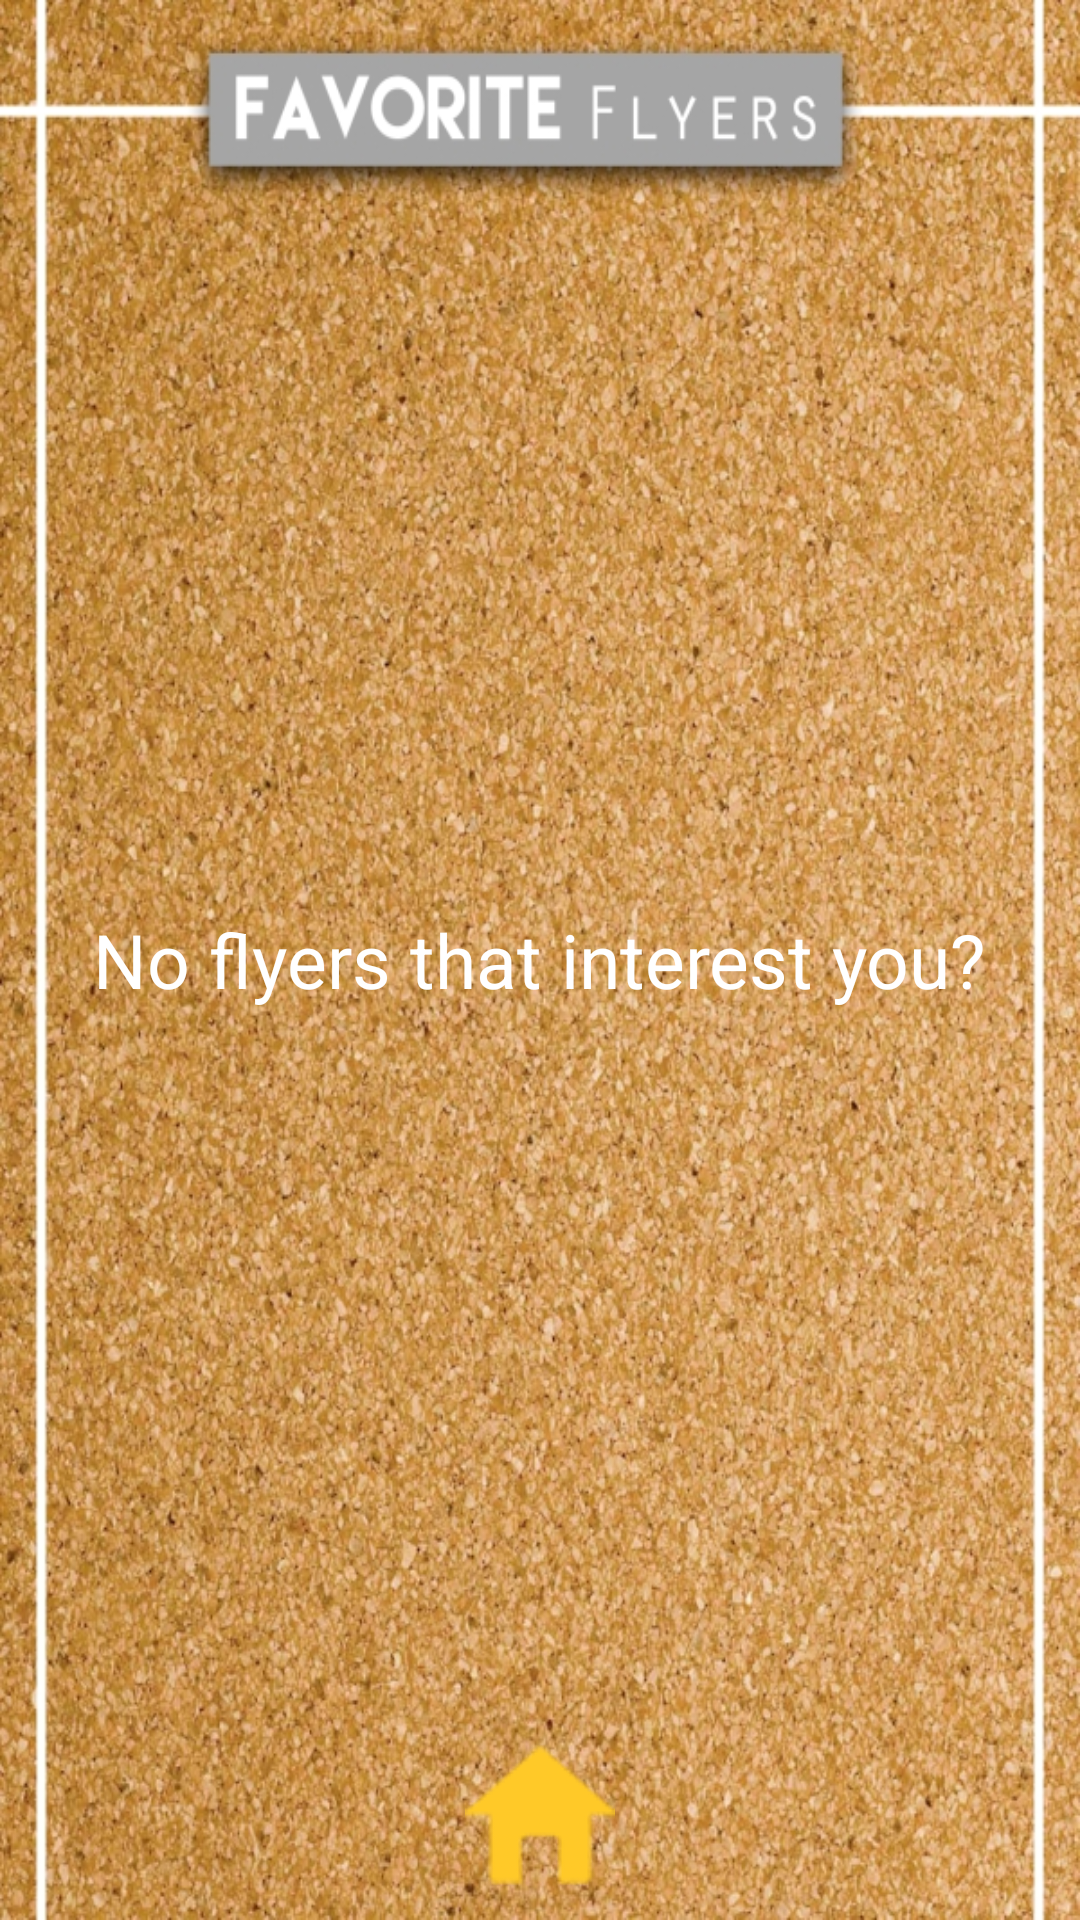

Locate icon controls on the screen. Image size 1080w x 1920h, boxes as (x1, y1, x2, y2).
home: (465, 1740, 615, 1890)
